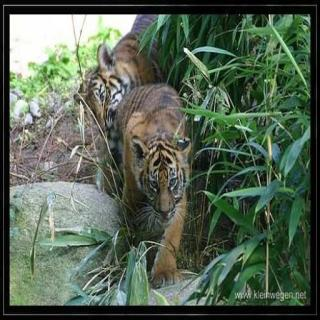Tiger: (110, 79, 193, 288), (78, 33, 149, 129)
